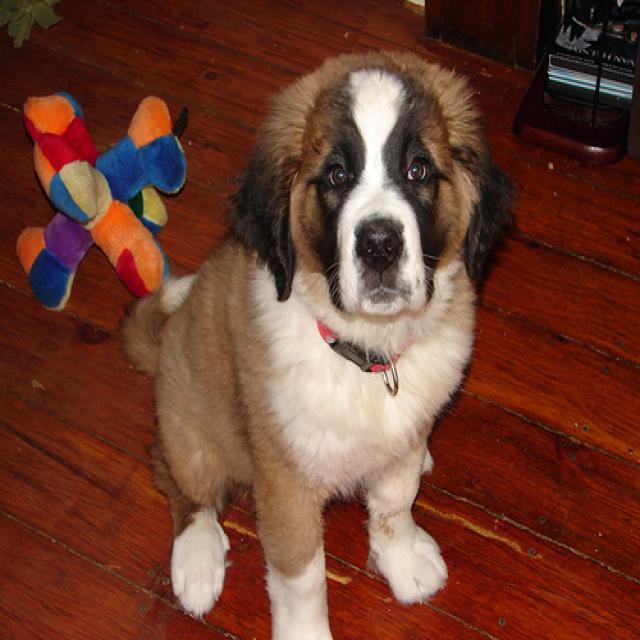dog-saint_bernard: (114, 43, 521, 637)
